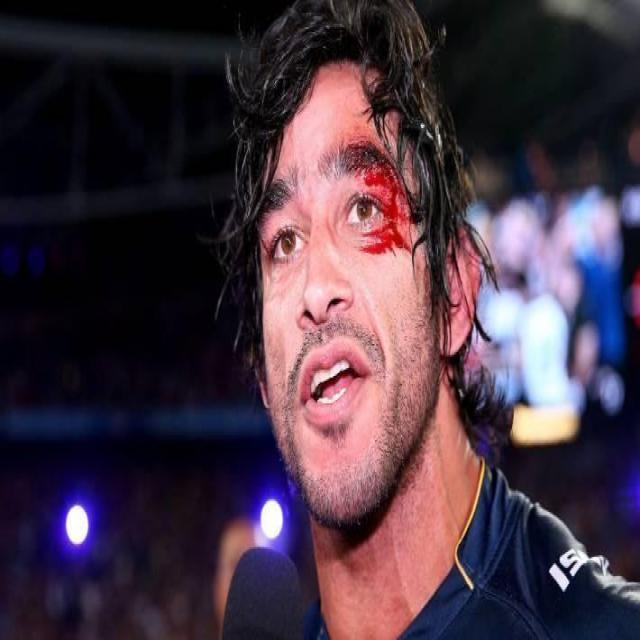flood: (344, 141, 422, 261)
